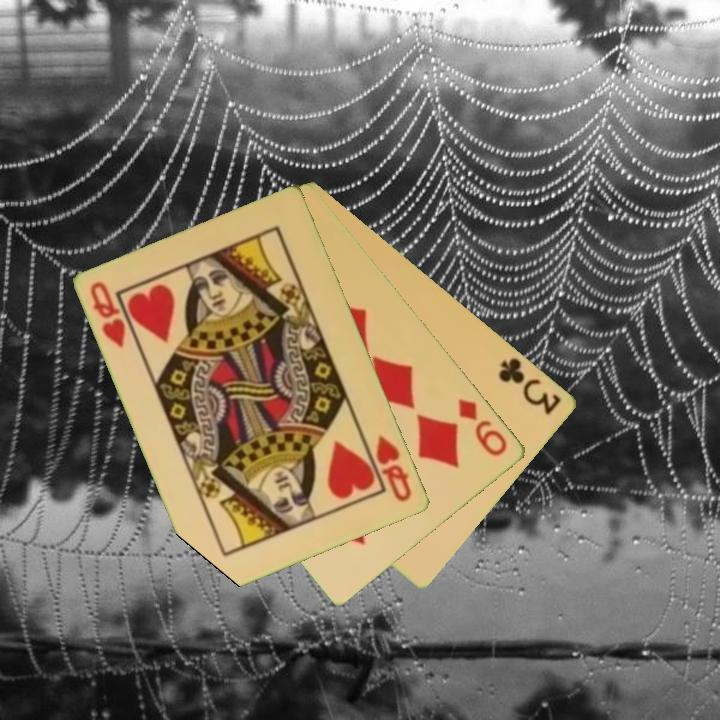3c: (495, 354, 565, 418)
9d: (454, 394, 511, 460)
Qh: (373, 431, 415, 505), (87, 278, 129, 351)
